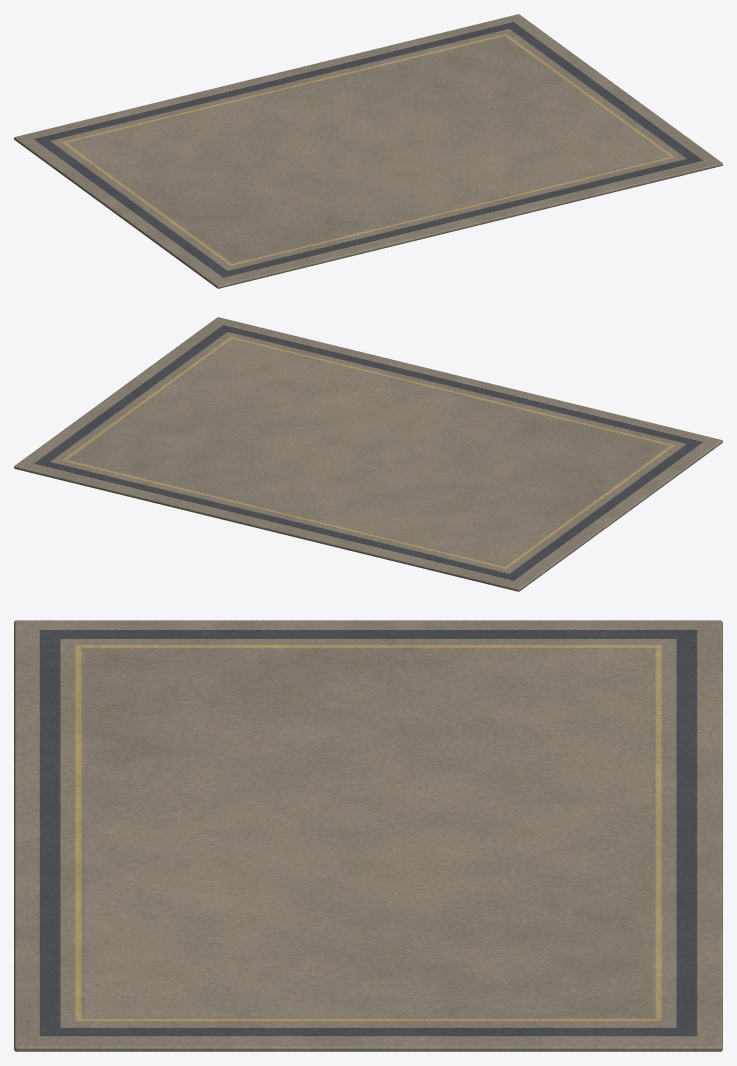
Rendered from Rug.obj.
3 renders of one model, top to bottom at view 1: azimuth 30°, elevation 25°; view 2: azimuth 150°, elevation 25°; view 3: azimuth 270°, elevation 25°, orthographic. The views are drawn at different scales.
Parts seen in each view (by area): view 1: Rug; view 2: Rug; view 3: Rug.
Boxes of the visible parts, left/top/right/bottom form: Rug: left=14, top=14, right=722, bottom=288; Rug: left=14, top=317, right=722, bottom=591; Rug: left=14, top=620, right=722, bottom=1051.
Bounding box in the file's own units: 2 × 0.012 × 1.4.
Materials: 1 (1 with a texture image).
